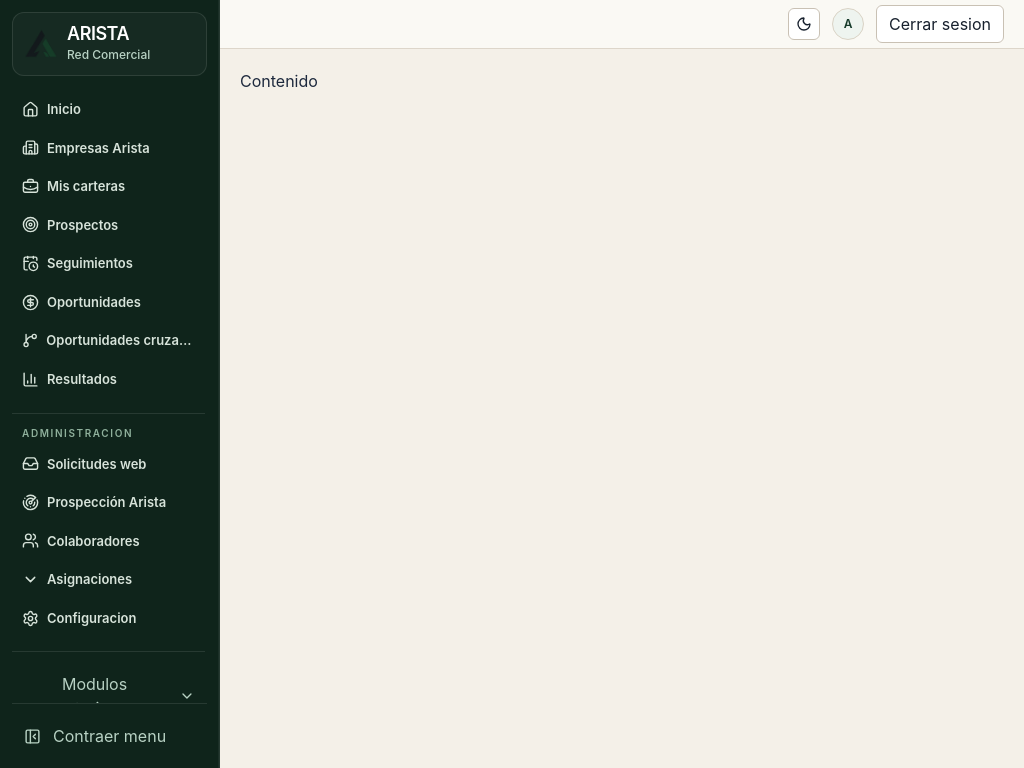
Test: AdminShell › permite alternar el tema y persistir la preferencia local
The width and height of the screenshot is (1024, 768).
Click the button named "Activar modo oscuro". click: click(804, 24)
box: [788,8,820,40]
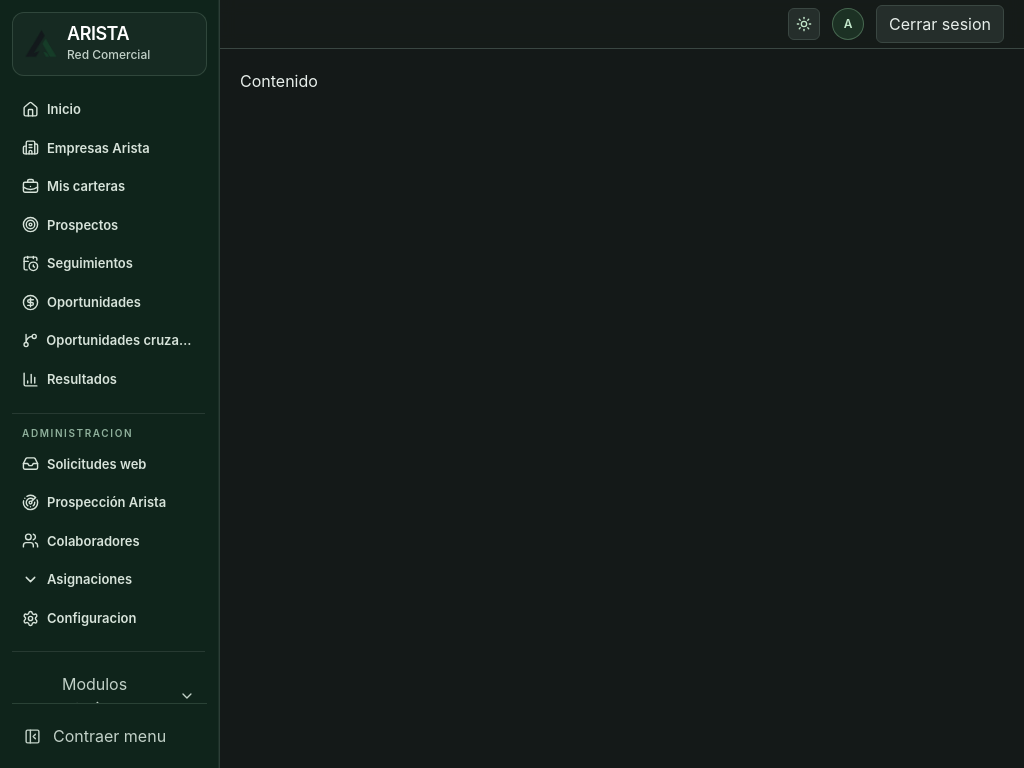
Now the button named "Activar modo claro" is shown, box [788,8,820,40]
